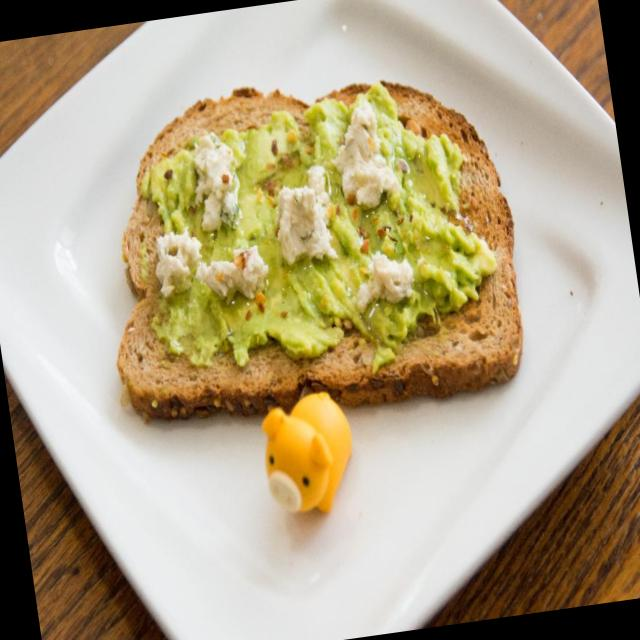Toy: (255, 389, 362, 522)
